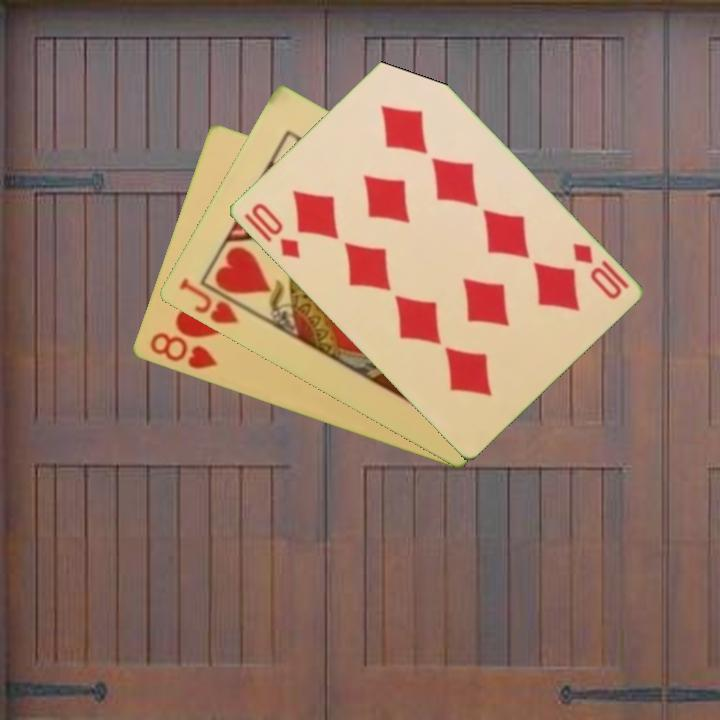10d: (568, 239, 632, 302), (247, 199, 303, 262)
8h: (145, 329, 220, 373)
Jh: (175, 274, 242, 328)
